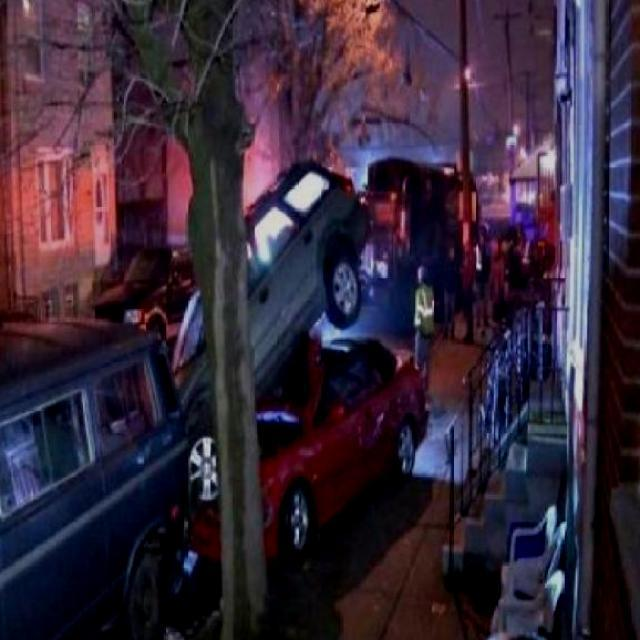accident: (20, 333, 358, 624), (193, 189, 375, 536)
